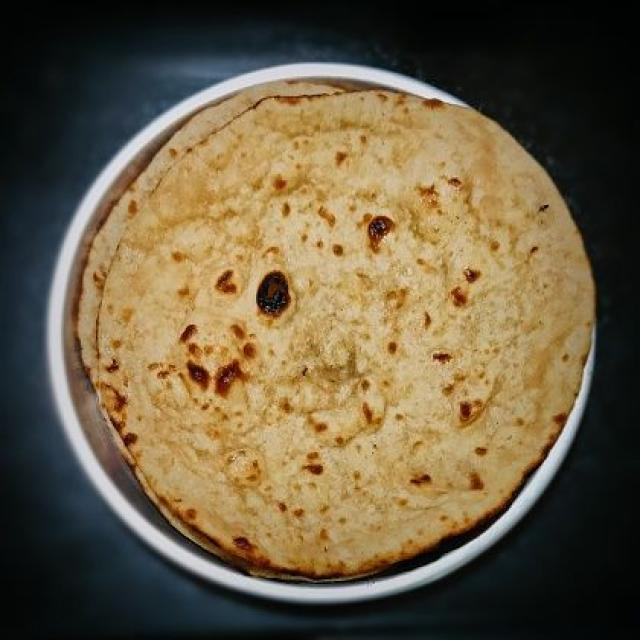ROTI: (76, 81, 593, 578)
